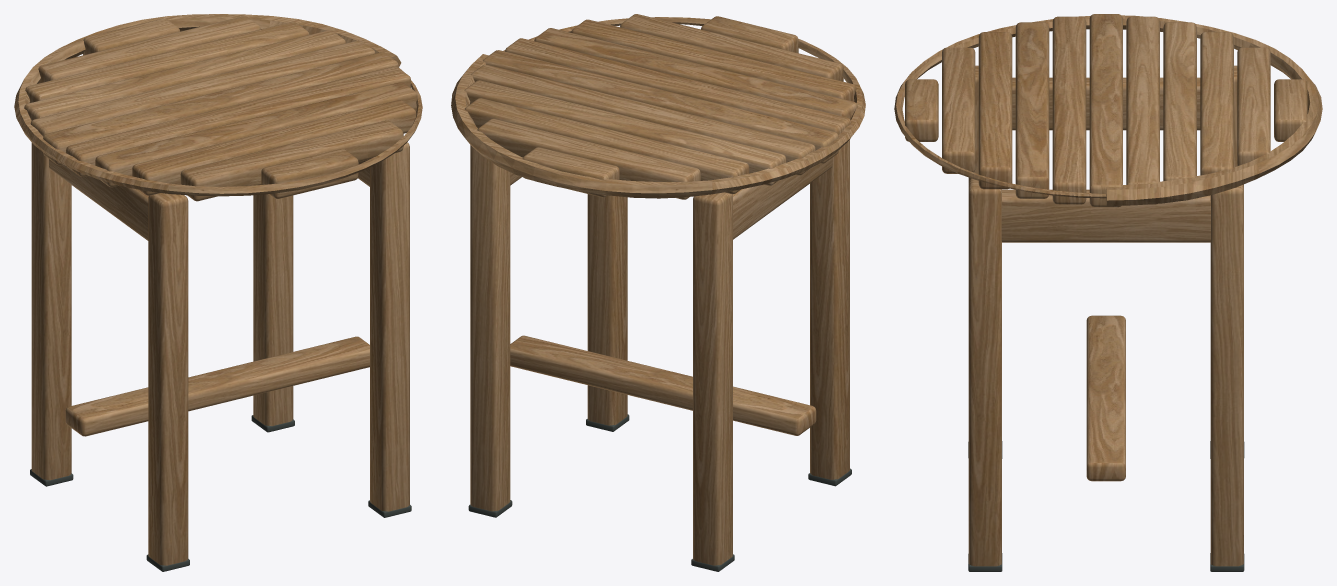
Rendered from patio-bistro-table.glb.
The picture shows the model from 3 angles, left to right: view 1: azimuth 30°, elevation 25°; view 2: azimuth 150°, elevation 25°; view 3: azimuth 270°, elevation 25°; orthographic projection. The views are drawn at different scales.
Parts seen in each view (by area): view 1: catalog_surface_RealismUV; view 2: catalog_surface_RealismUV; view 3: catalog_surface_RealismUV.
Boxes of the visible parts, x1,y1,x2,y2 form: catalog_surface_RealismUV: [14, 14, 422, 571]; catalog_surface_RealismUV: [451, 14, 865, 571]; catalog_surface_RealismUV: [894, 14, 1322, 571].
Bounding box in the file's own units: 0.7 × 0.74 × 0.7.
3 materials, 1 textured.
